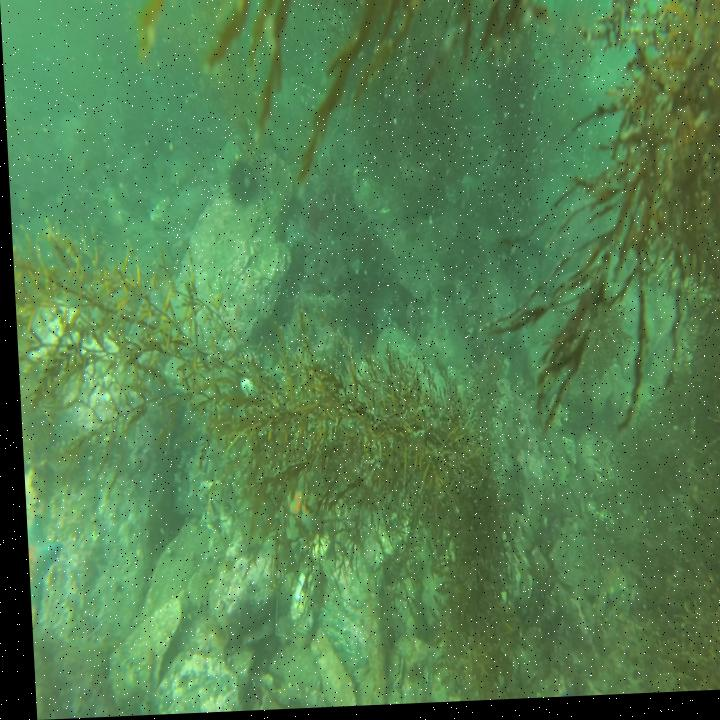echinus: (220, 150, 257, 206)
starfish: (21, 512, 59, 612), (278, 479, 315, 542)
